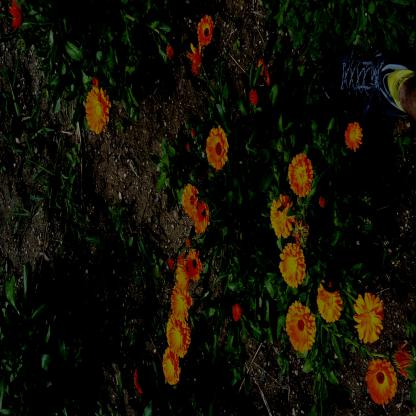marigold: (354, 294, 383, 342), (286, 302, 314, 351), (368, 360, 396, 404), (280, 243, 306, 288), (86, 88, 110, 134), (270, 194, 294, 237), (317, 282, 342, 323), (289, 154, 313, 196), (206, 127, 229, 170), (166, 315, 190, 356), (172, 285, 191, 320), (162, 350, 180, 384), (192, 202, 210, 235), (344, 122, 362, 151), (175, 260, 191, 290), (187, 249, 202, 280), (198, 17, 214, 46), (184, 184, 198, 214)
